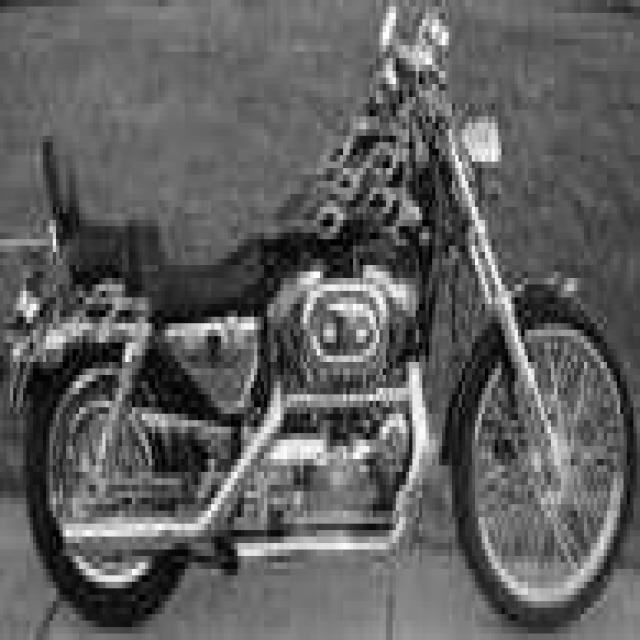Motorcycle: (12, 8, 632, 624)
